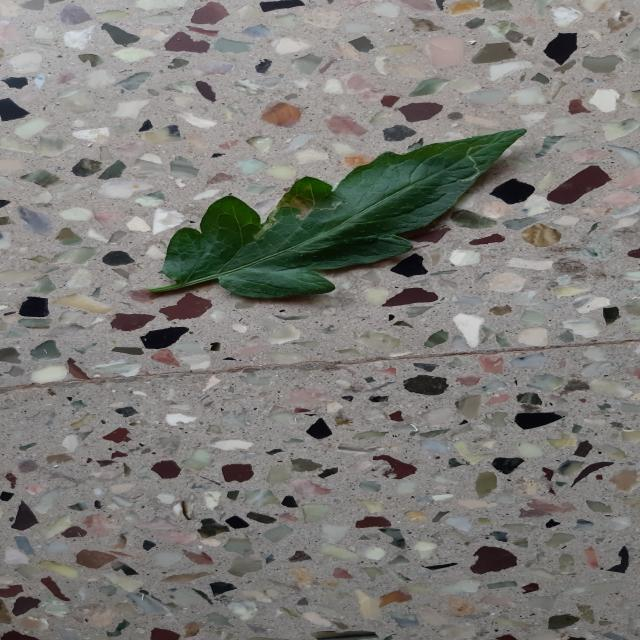defectedtomato: (200, 178, 342, 245)
tomato: (149, 130, 524, 298)
